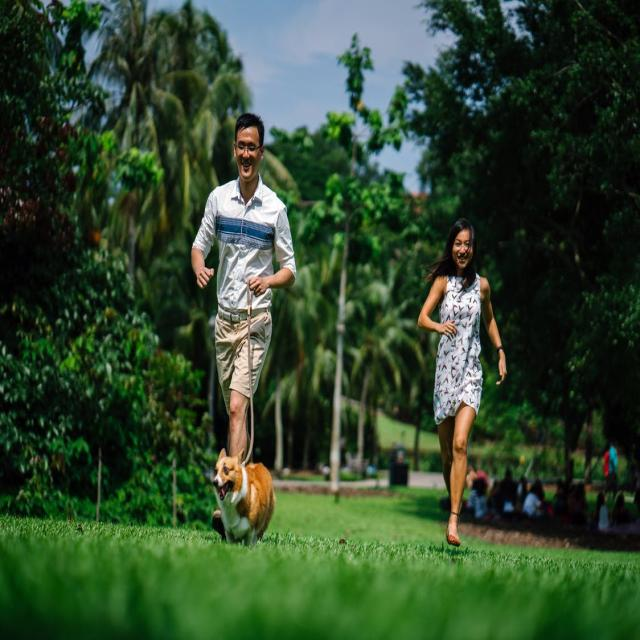running: (188, 113, 292, 446), (413, 219, 508, 548)
